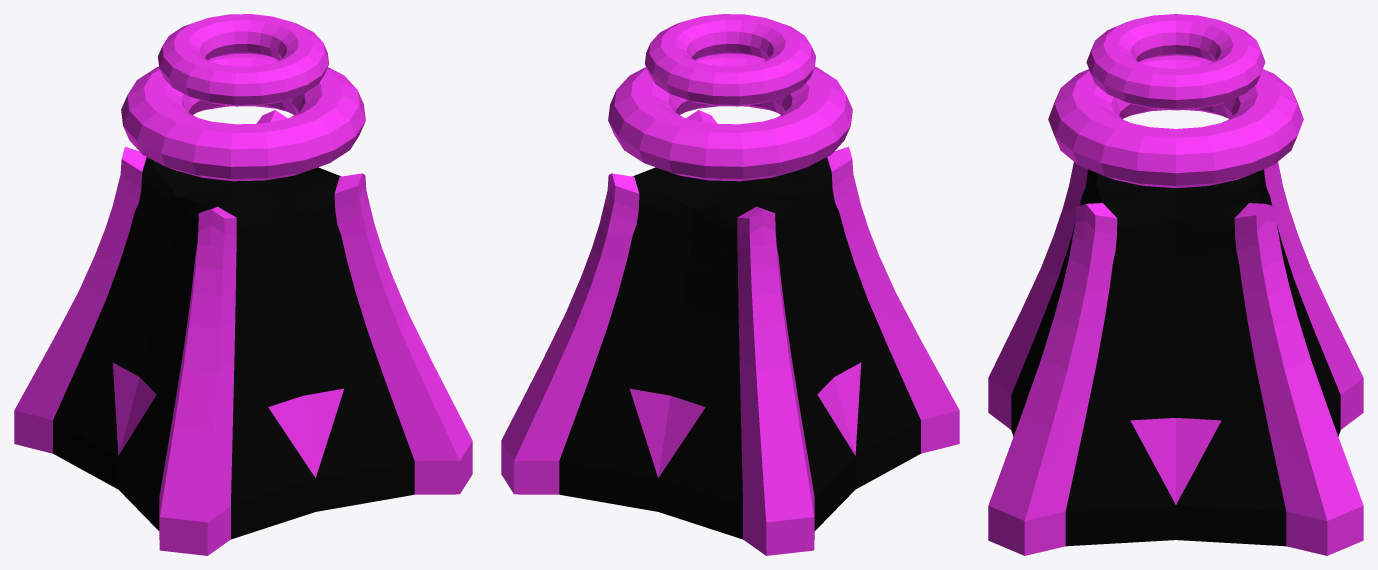
The model's file is mediumTower.fbx.
The picture shows the model from 3 angles, left to right: view 1: azimuth 30°, elevation 25°; view 2: azimuth 150°, elevation 25°; view 3: azimuth 270°, elevation 25°; orthographic projection. The views are drawn at different scales.
Parts seen in each view (by area): view 1: Tower; view 2: Tower; view 3: Tower.
Boxes of the visible parts, left/top/right/bottom form: Tower: left=14, top=14, right=472, bottom=555; Tower: left=501, top=14, right=959, bottom=555; Tower: left=988, top=14, right=1363, bottom=555.
Bounding box in the file's own units: 5.97 × 7.57 × 5.97.
1 material, 1 textured.
